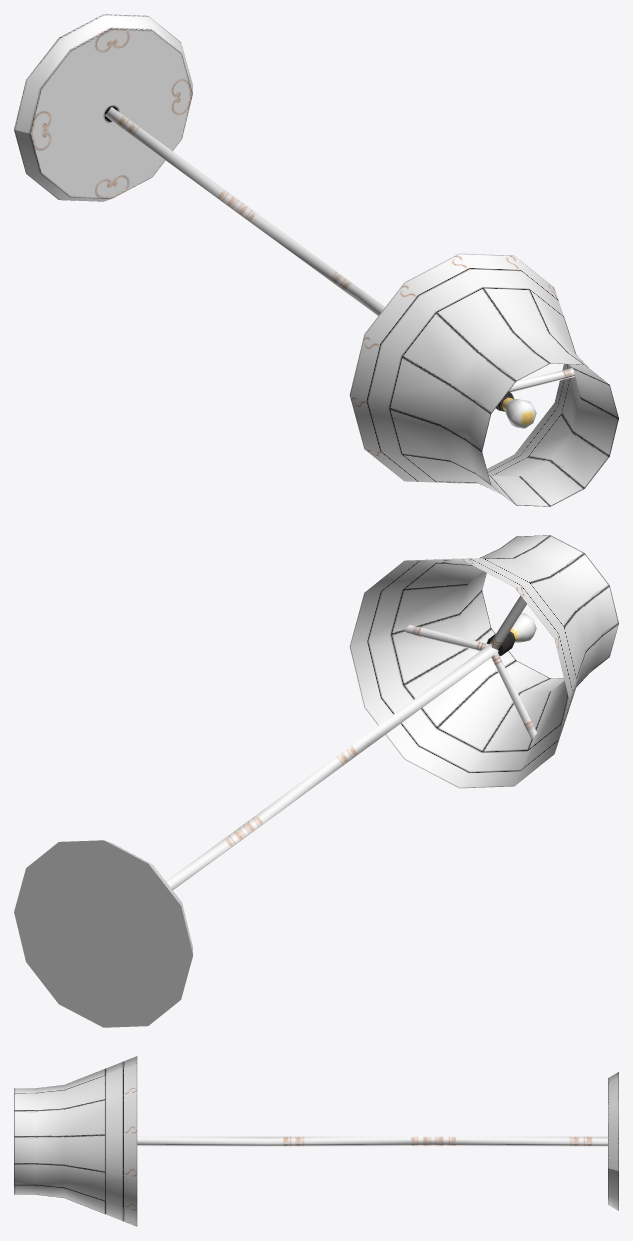
The model's file is EscherLamp.dae.
3 renders of one model, top to bottom at view 1: azimuth 30°, elevation 25°; view 2: azimuth 150°, elevation 25°; view 3: azimuth 270°, elevation 25°, orthographic. The views are drawn at different scales.
Visible parts, largest first — view 1: mesh0; view 2: mesh0; view 3: mesh0.
Boxes of the visible parts, x1=… form: mesh0: x1=14, y1=14, x2=618, y2=506; mesh0: x1=14, y1=535, x2=618, y2=1027; mesh0: x1=14, y1=1056, x2=618, y2=1226.
Size of the model in its own units: 96.31 by 96.31 by 339.
Materials: 1 (1 with a texture image).
